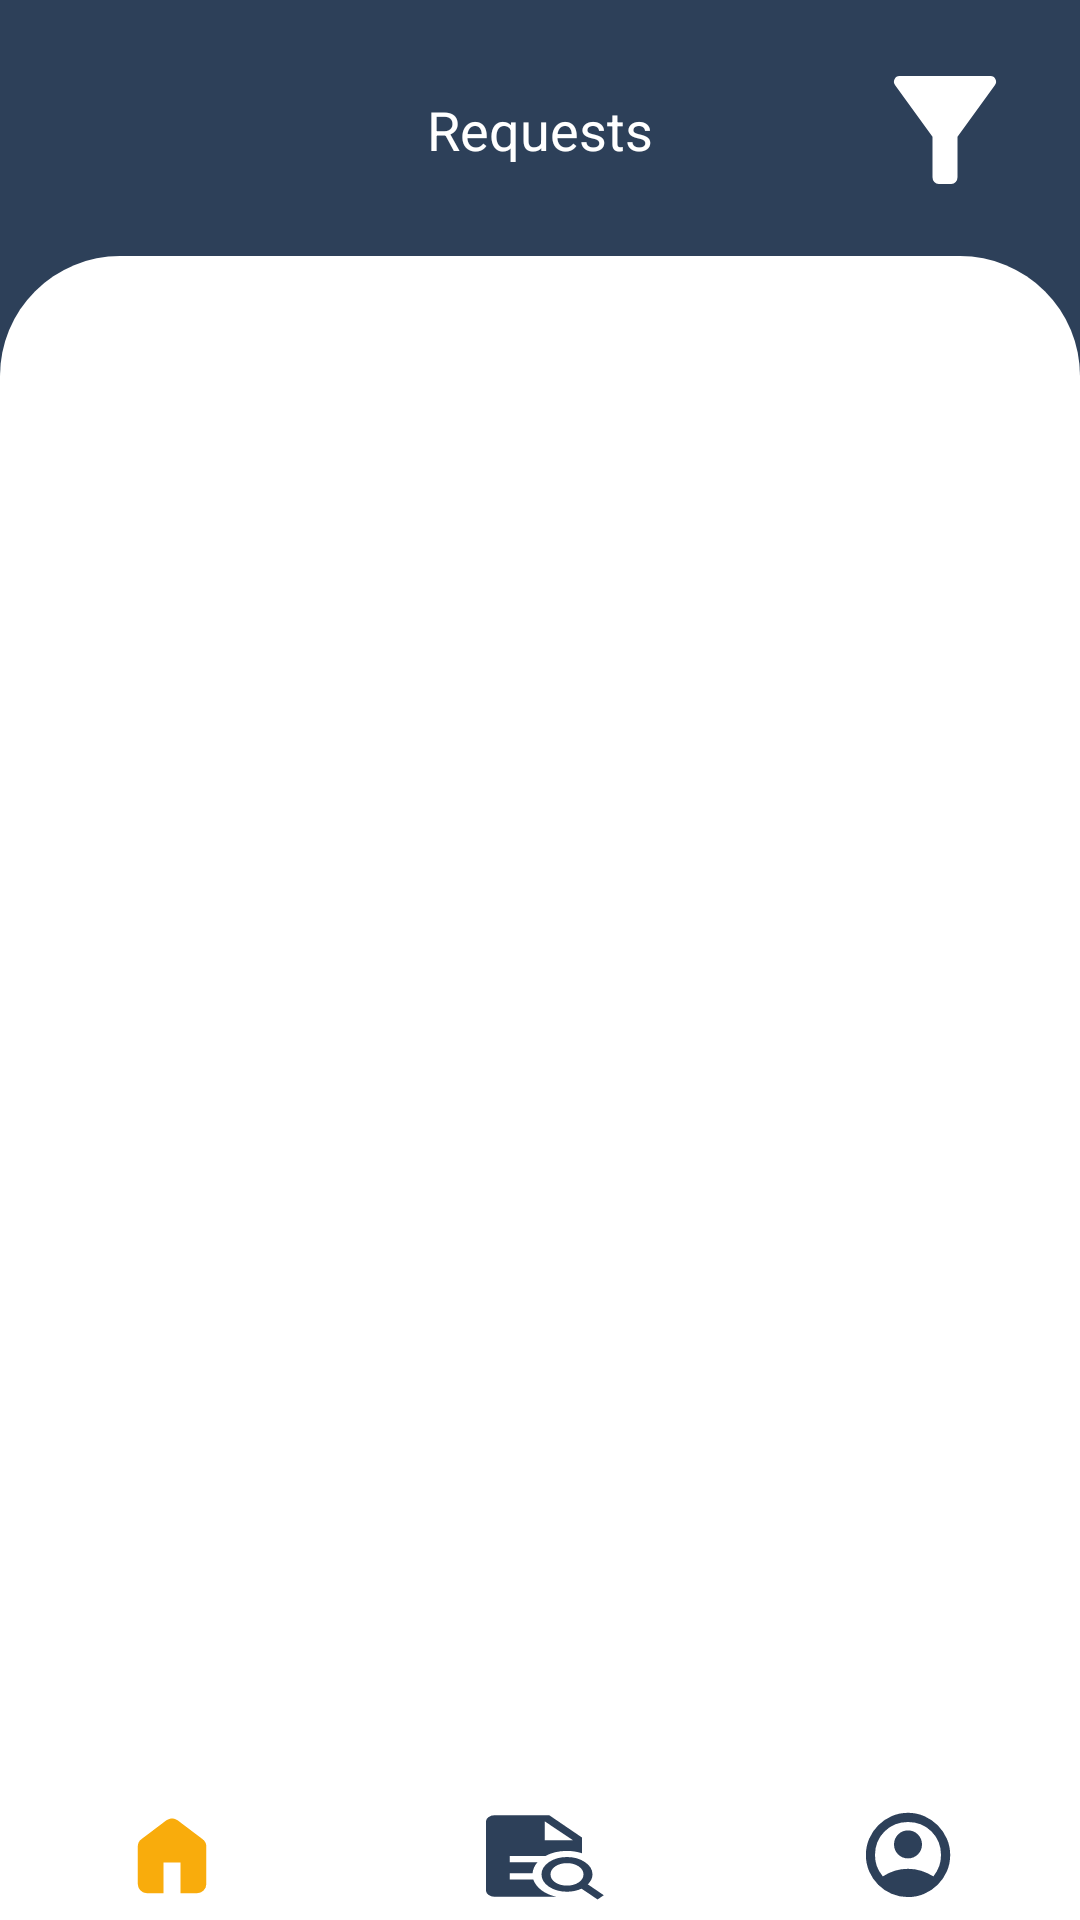

Locate icon controls on the screen. Image size 1080 × 1920, boxes as Rect(x1, y1, x2, y2).
filter: Rect(894, 76, 996, 184)
homefill: Rect(137, 1818, 207, 1894)
quick reference all: Rect(486, 1815, 604, 1900)
